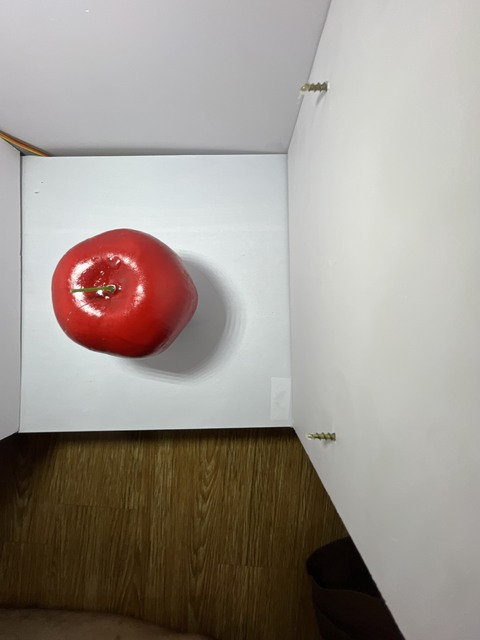Tao: (45, 219, 203, 362)
